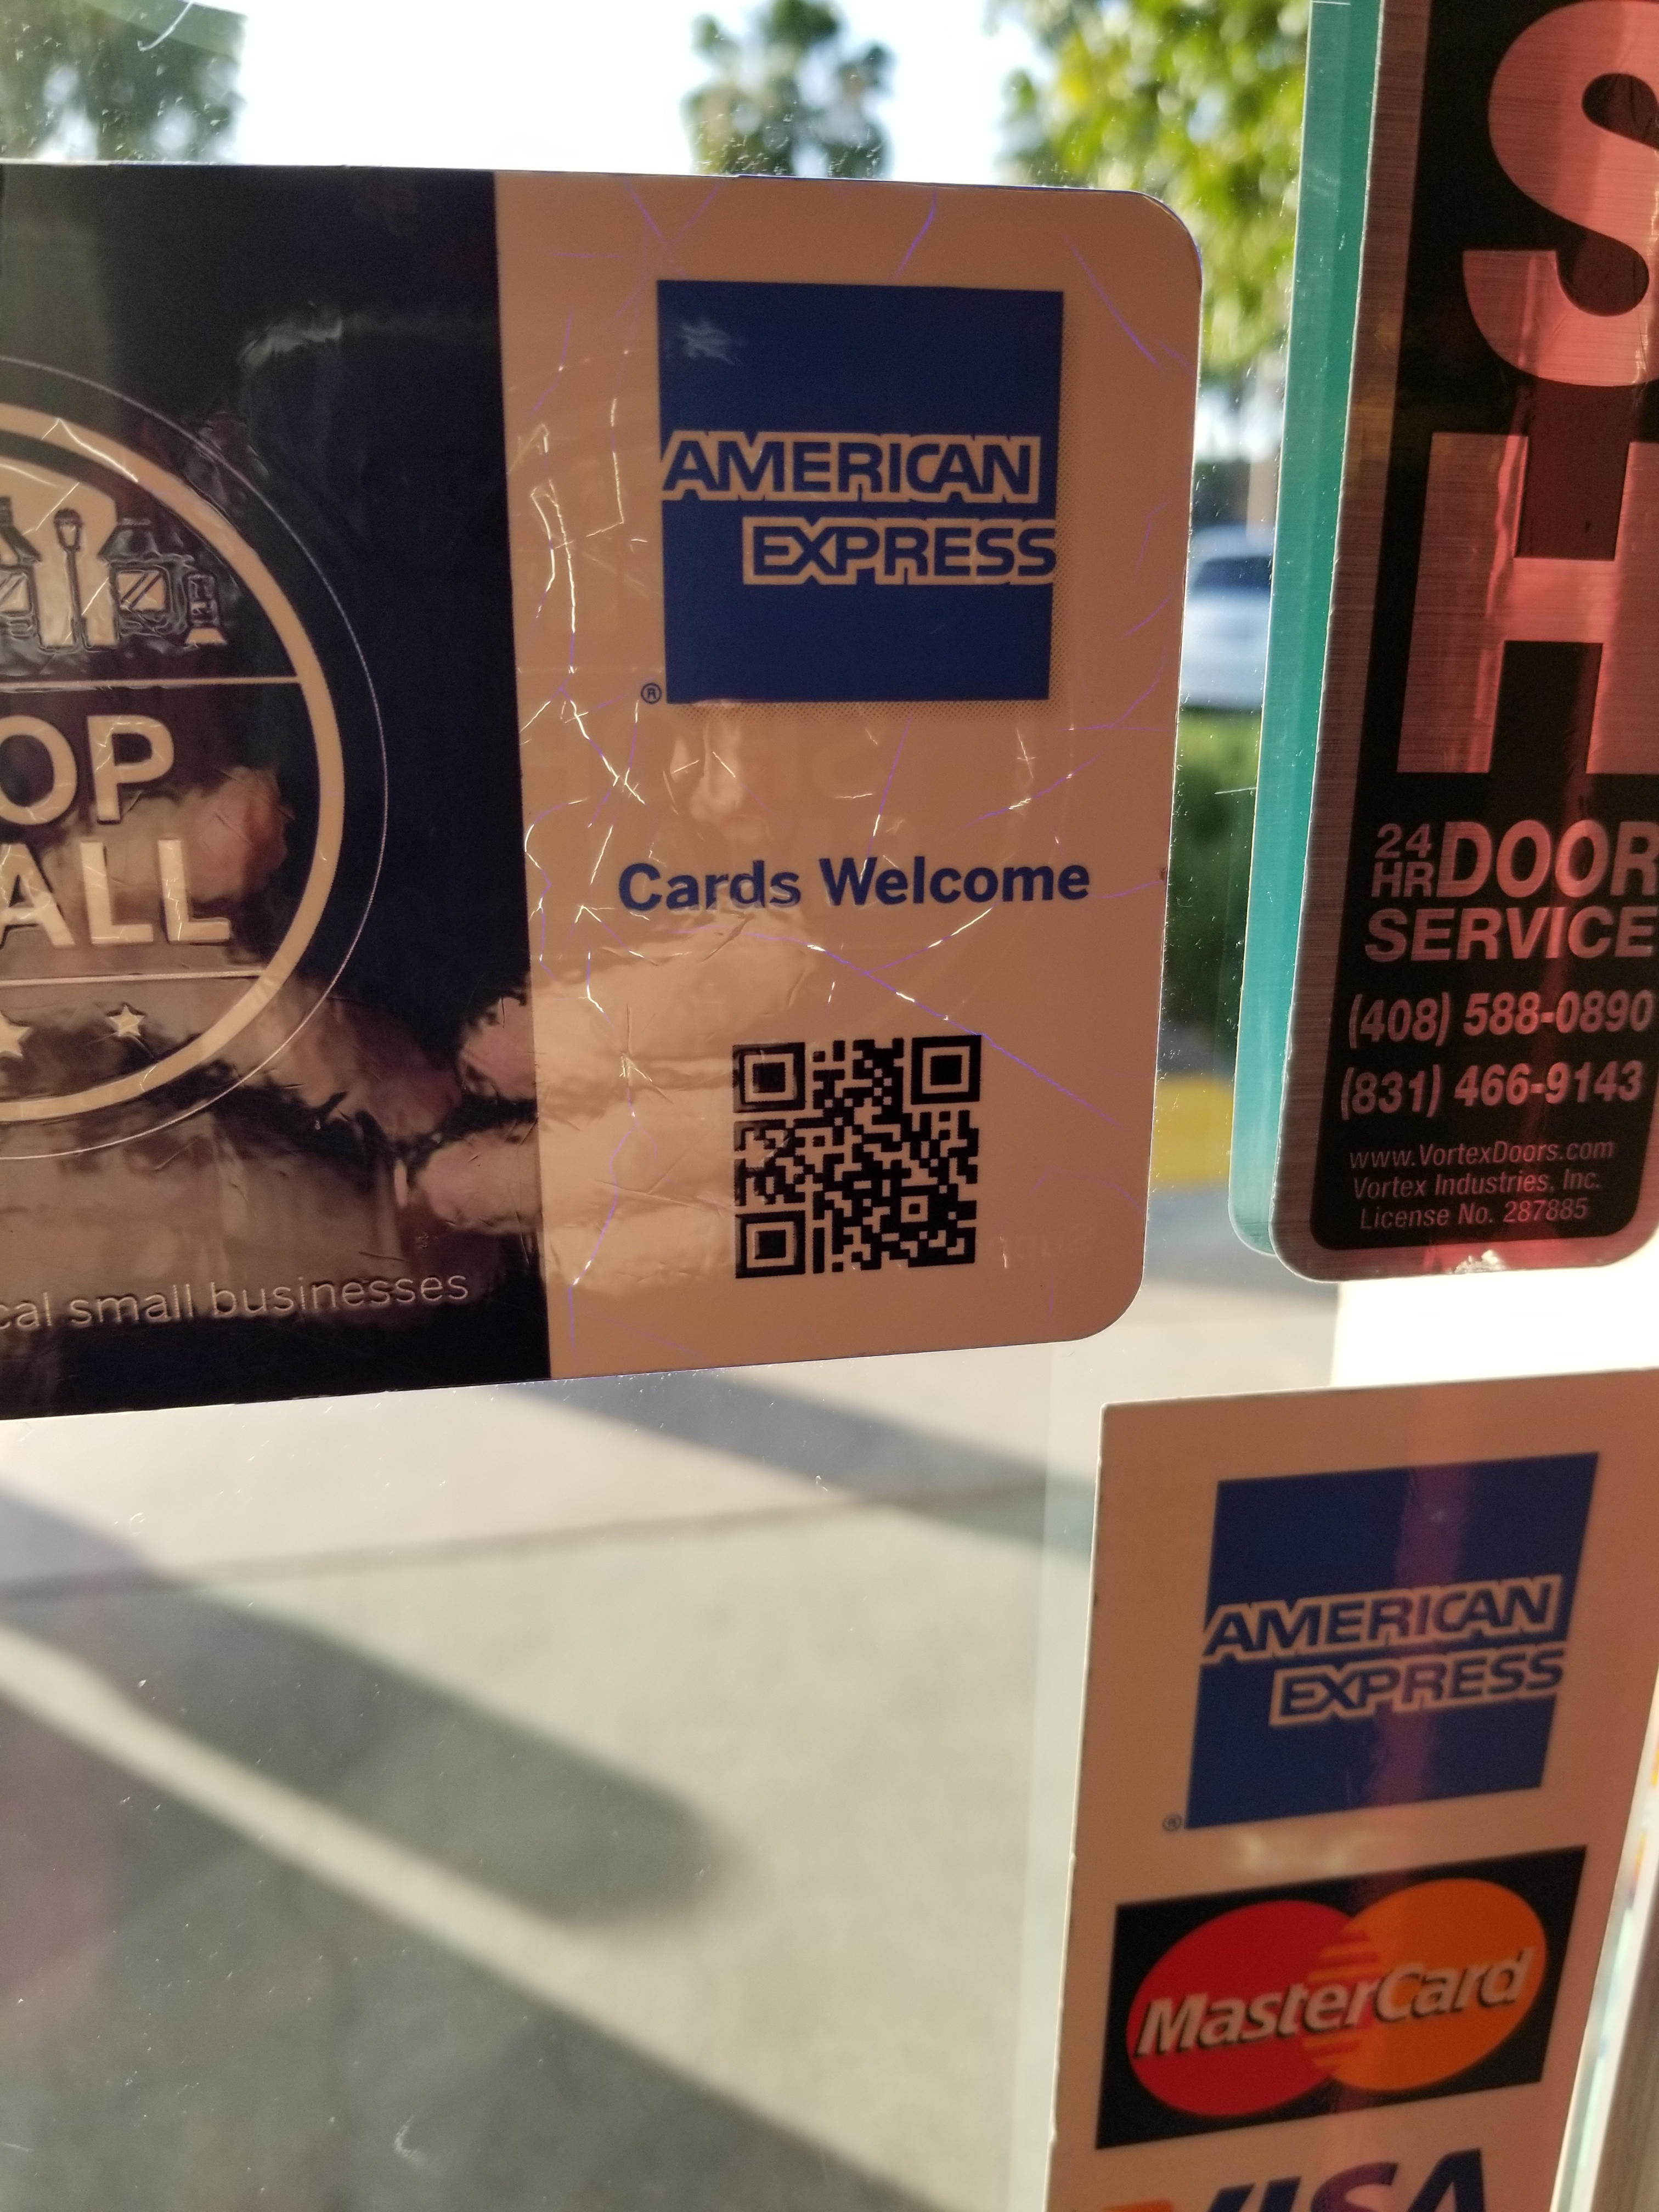QR_CODE: (702, 970, 1011, 1310)
